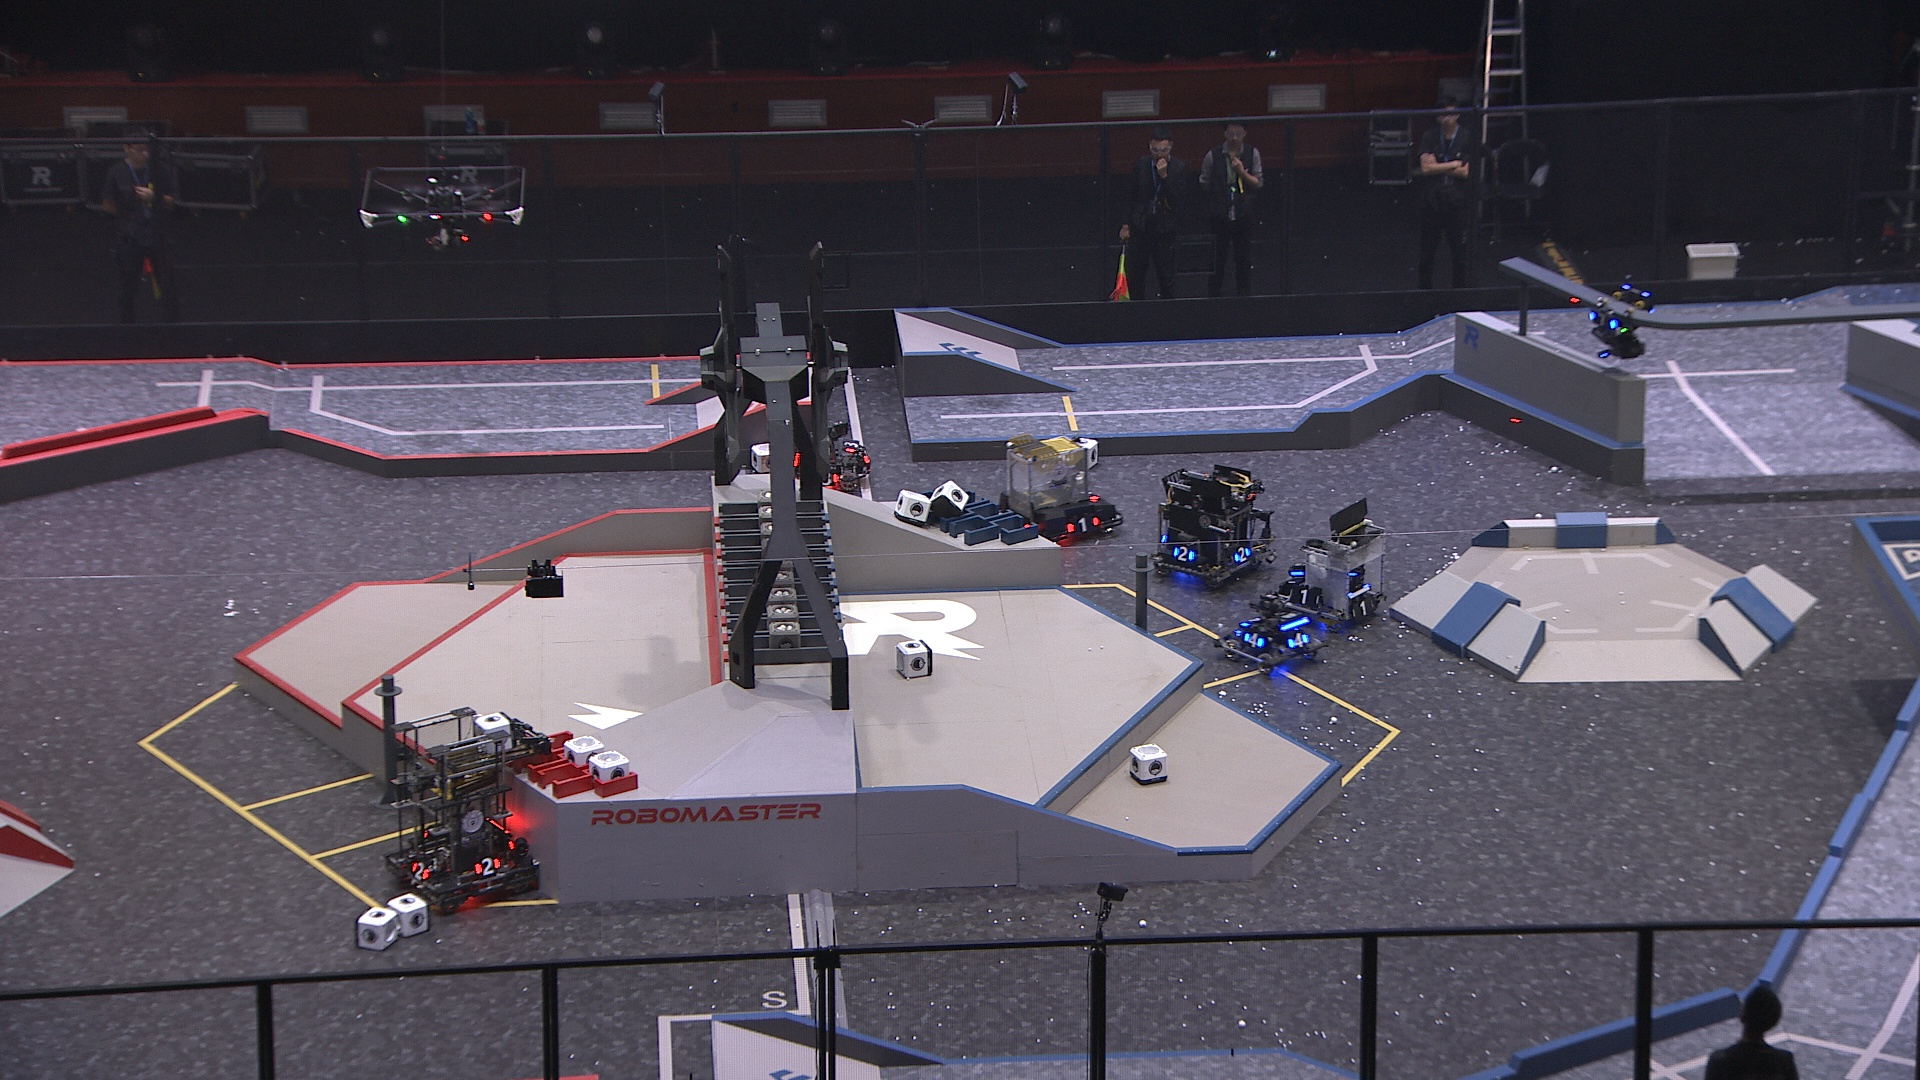armor: (1586, 309, 1621, 332), (1287, 585, 1321, 607), (1065, 514, 1101, 534), (473, 855, 502, 876), (1352, 597, 1377, 618), (407, 861, 429, 884), (1172, 547, 1199, 564), (1244, 632, 1265, 651), (1288, 633, 1309, 650), (1233, 546, 1251, 564), (1240, 613, 1262, 626), (1081, 488, 1100, 501), (844, 438, 858, 454), (1287, 574, 1300, 589)
car: (389, 707, 545, 911), (1257, 496, 1396, 633), (1153, 462, 1273, 585), (994, 433, 1120, 547), (1212, 591, 1329, 679), (789, 417, 869, 496)
watcher: (1582, 281, 1660, 363)
